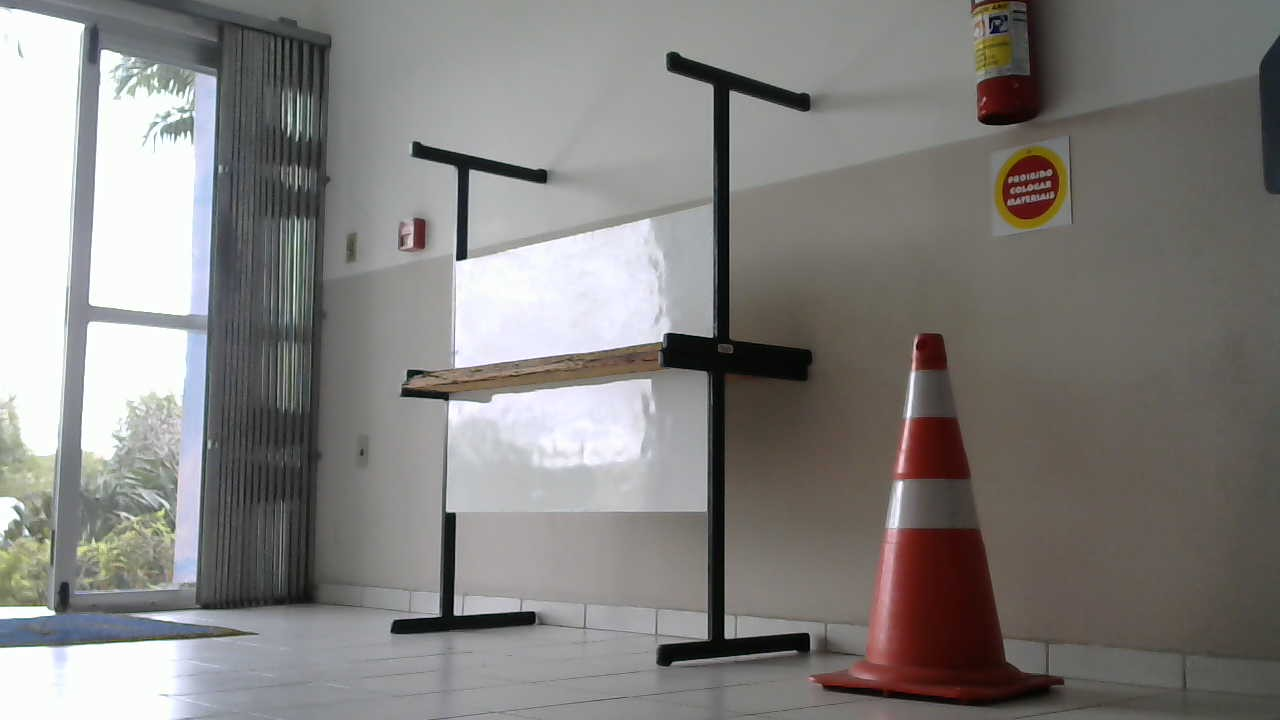cone: (827, 332, 1063, 701)
